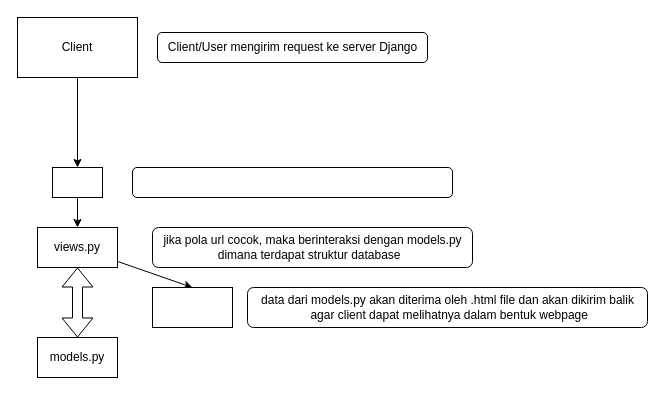
Some shapes in this 665 by 395 pixel diagram are drawn without their labels. The centre of each missing label's shape, as x and y in pixels:
.html file: point 192,307
urls.py: point 77,182
urls.py menerima request dan meneruskan ke views.py: point 292,182
